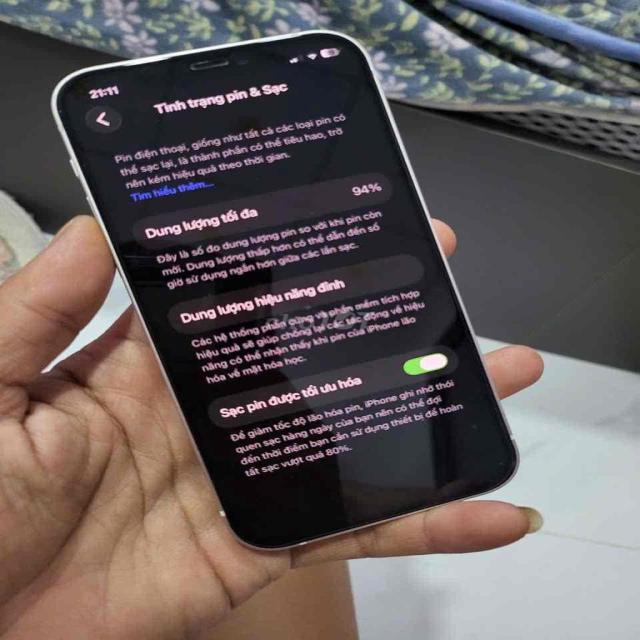gen_12_13: (55, 29, 521, 555)
